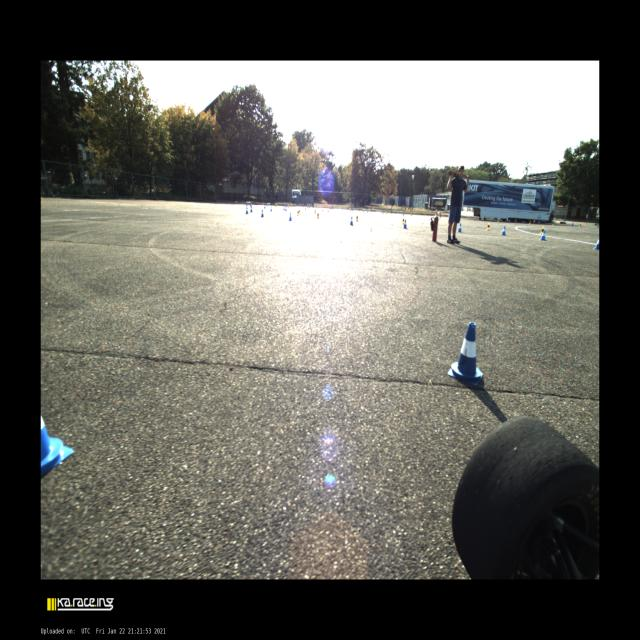blue_cone: (447, 322, 483, 385), (593, 240, 599, 250), (540, 230, 546, 240), (501, 226, 506, 235), (457, 223, 462, 232), (403, 220, 407, 228), (351, 217, 354, 226), (289, 213, 292, 221), (261, 210, 264, 218), (250, 207, 253, 212), (246, 208, 248, 214), (473, 217, 476, 220), (538, 221, 540, 225), (572, 222, 574, 226), (597, 224, 599, 228), (270, 207, 272, 211), (264, 205, 266, 208), (283, 207, 285, 210), (285, 208, 287, 211)
yellow_cone: (486, 222, 490, 230), (578, 223, 582, 228), (356, 215, 358, 222), (317, 213, 319, 219), (552, 222, 555, 226), (497, 219, 500, 223), (297, 211, 299, 216), (529, 220, 531, 224), (275, 204, 277, 208), (314, 210, 316, 213), (288, 205, 289, 209)
